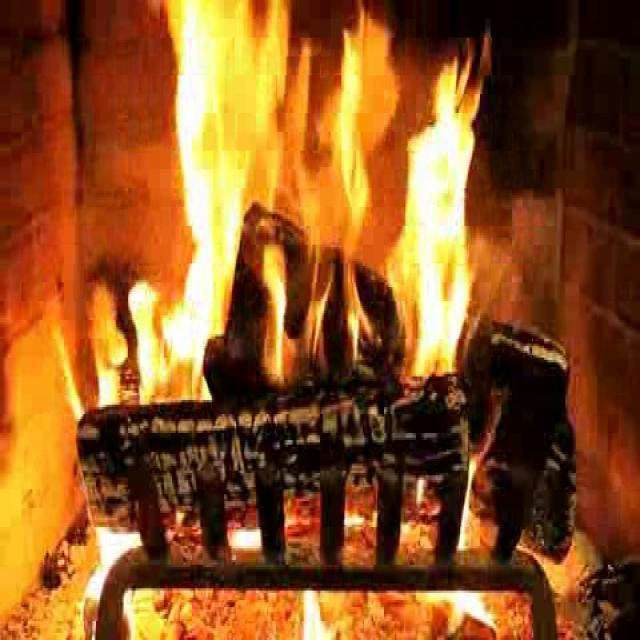Fire: (142, 9, 486, 438)
